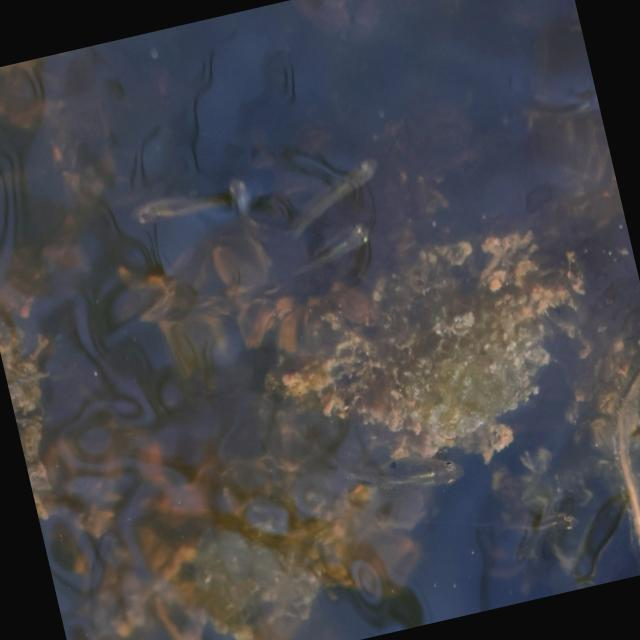Sivrisinek Baligi: (227, 211, 390, 304), (331, 430, 465, 524), (466, 480, 590, 560)
